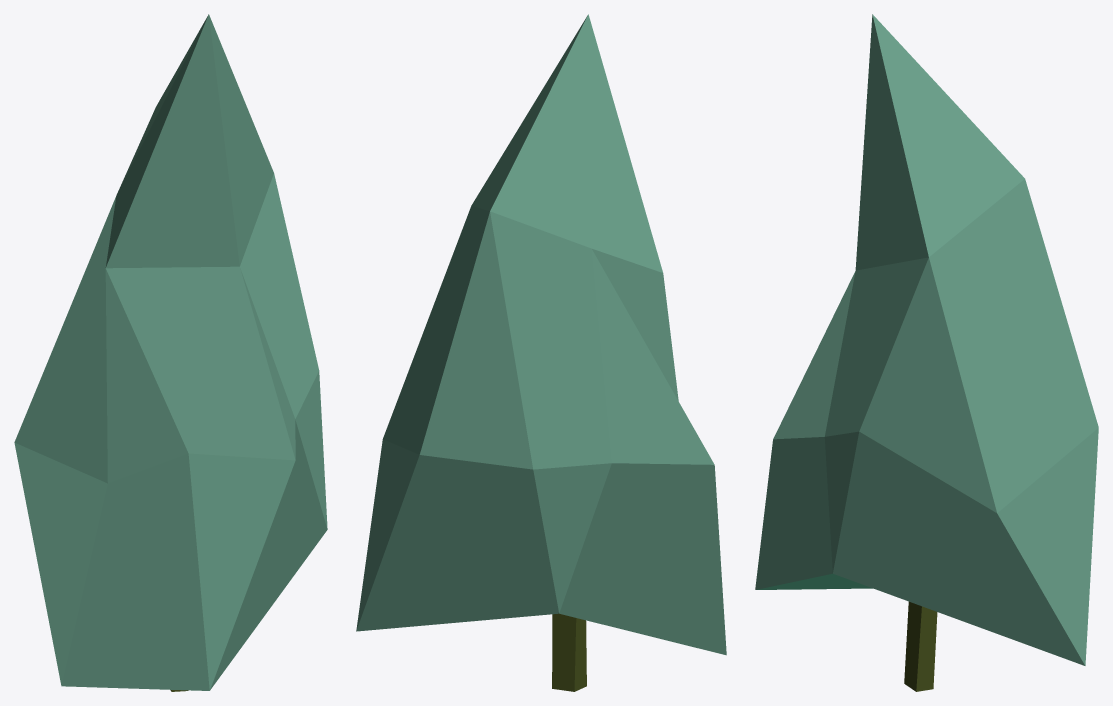
The model's file is TreeWinter8_Alt3.fbx.
3 renders of one model, left to right at view 1: azimuth 30°, elevation 25°; view 2: azimuth 150°, elevation 25°; view 3: azimuth 270°, elevation 25°, orthographic. The views are drawn at different scales.
Parts seen in each view (by area): view 1: TreeWinter8_Alt3; view 2: TreeWinter8_Alt3; view 3: TreeWinter8_Alt3.
Boxes of the visible parts, <box> form: TreeWinter8_Alt3: <box>14,14,327,691</box>; TreeWinter8_Alt3: <box>356,14,726,691</box>; TreeWinter8_Alt3: <box>755,14,1098,691</box>.
Bounding box in the file's own units: 1.31 × 2.74 × 1.27.
